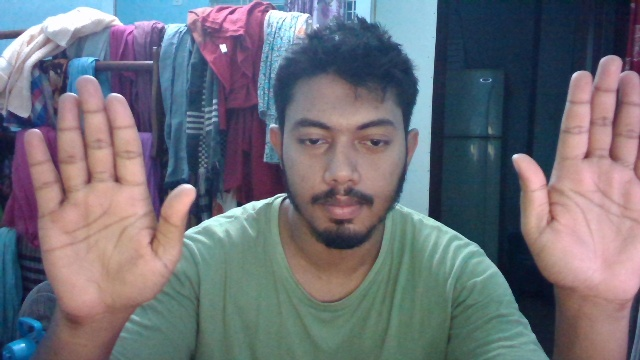thanks: (21, 55, 640, 318)
